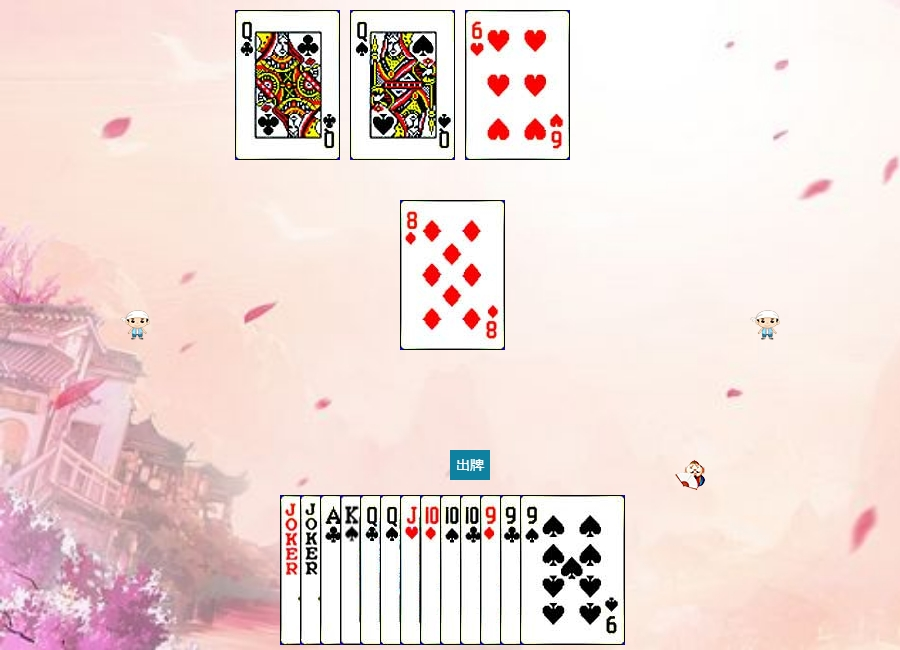10~1: (420, 495, 525, 645)
10~2: (460, 495, 565, 645)
10~4: (440, 495, 545, 645)
11~3: (400, 495, 505, 645)
12~2: (235, 10, 340, 160), (360, 495, 465, 645)
12~4: (350, 10, 455, 160), (380, 495, 485, 645)
13~4: (340, 495, 445, 645)
14~2: (320, 495, 425, 645)
17~3: (300, 495, 405, 645)
18~4: (280, 495, 385, 645)
6~3: (465, 10, 570, 160)
8~1: (400, 200, 505, 350)
9~1: (480, 495, 585, 645)
9~2: (500, 495, 605, 645)
9~4: (520, 495, 625, 645)
